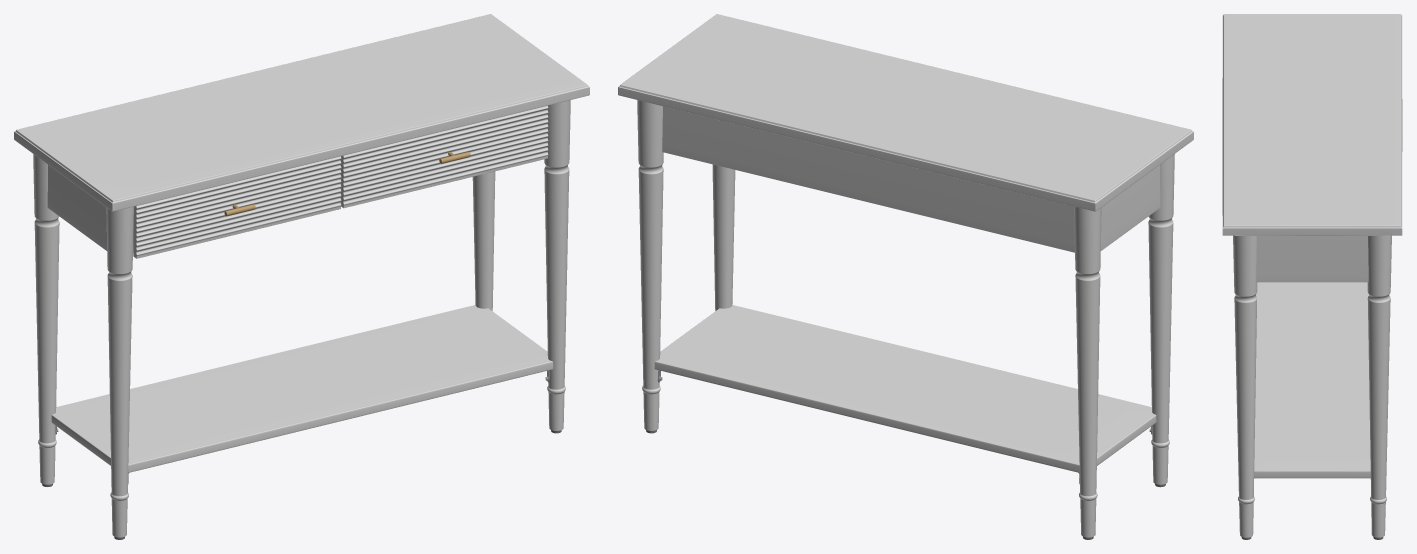
Rendered from abo-B084MMLP68.glb.
3 views of the same model, side by side, from view 1: azimuth 30°, elevation 25°; view 2: azimuth 150°, elevation 25°; view 3: azimuth 270°, elevation 25° (orthographic). The views are drawn at different scales.
Bounding box in the file's own units: 1.07 × 0.749 × 0.3809.
1 material, 1 textured.
